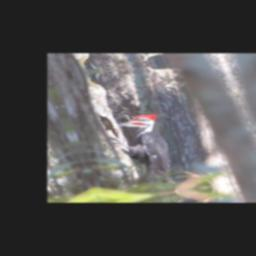Woodpecker: (94, 113, 190, 195)
